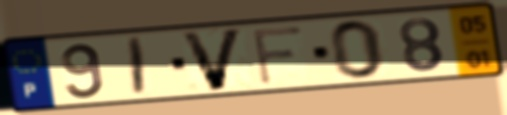0: (327, 18, 389, 82)
8: (397, 16, 448, 74)
9: (60, 42, 105, 100)
F: (250, 23, 307, 88)
I: (128, 35, 148, 99)
V: (177, 27, 247, 94)
